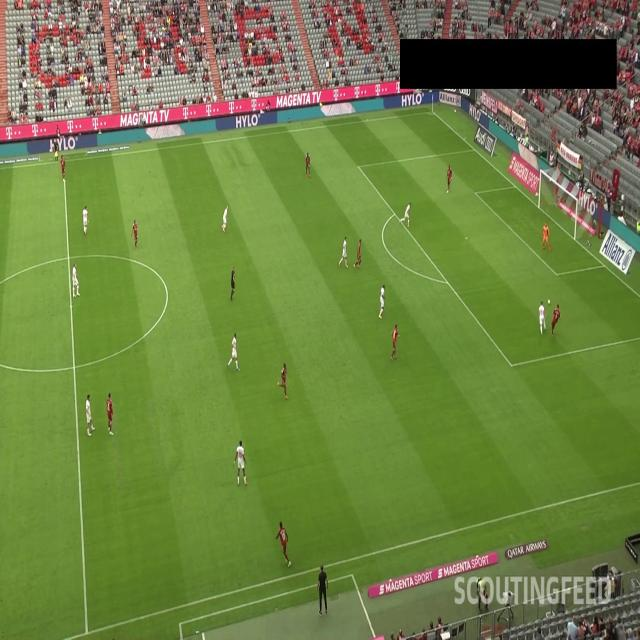ball: (546, 294, 552, 306)
player: (274, 518, 292, 567), (232, 434, 248, 488), (83, 388, 97, 439), (226, 329, 241, 376), (104, 388, 116, 437), (336, 229, 350, 270), (388, 322, 401, 362), (376, 280, 388, 322), (398, 197, 412, 231), (276, 360, 289, 396), (549, 299, 561, 338), (129, 214, 141, 252), (540, 217, 552, 255), (218, 201, 232, 233), (352, 236, 364, 270), (70, 258, 80, 298), (538, 297, 548, 335), (444, 162, 454, 196), (302, 148, 312, 181), (82, 201, 90, 238), (60, 155, 66, 180)
referee: (228, 263, 237, 303), (51, 138, 60, 163)
